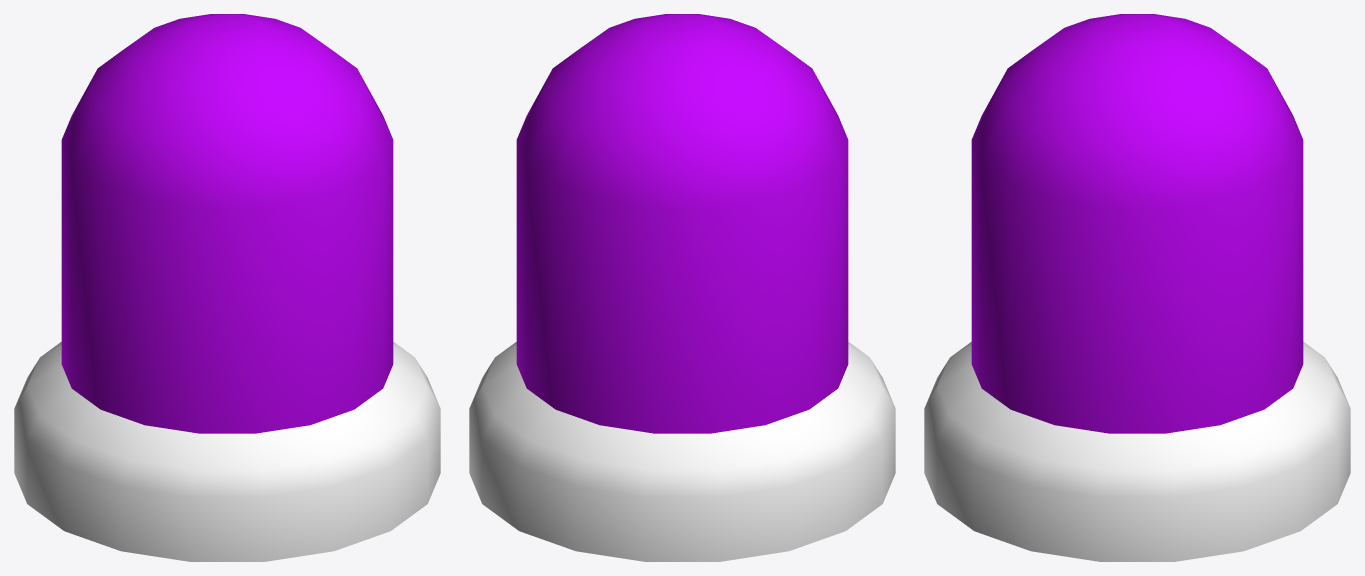
The model's file is LED_1_Purple.fbx.
The picture shows the model from 3 angles, left to right: view 1: azimuth 30°, elevation 25°; view 2: azimuth 150°, elevation 25°; view 3: azimuth 270°, elevation 25°; orthographic projection.
Visible parts, largest first — view 1: LED_1_Purple; view 2: LED_1_Purple; view 3: LED_1_Purple.
Part boxes in pixels (x1=…): LED_1_Purple: x1=14, y1=14, x2=440, y2=561; LED_1_Purple: x1=469, y1=14, x2=895, y2=561; LED_1_Purple: x1=924, y1=14, x2=1350, y2=561.
Size of the model in its own units: 23.66 by 27.52 by 24.03.
